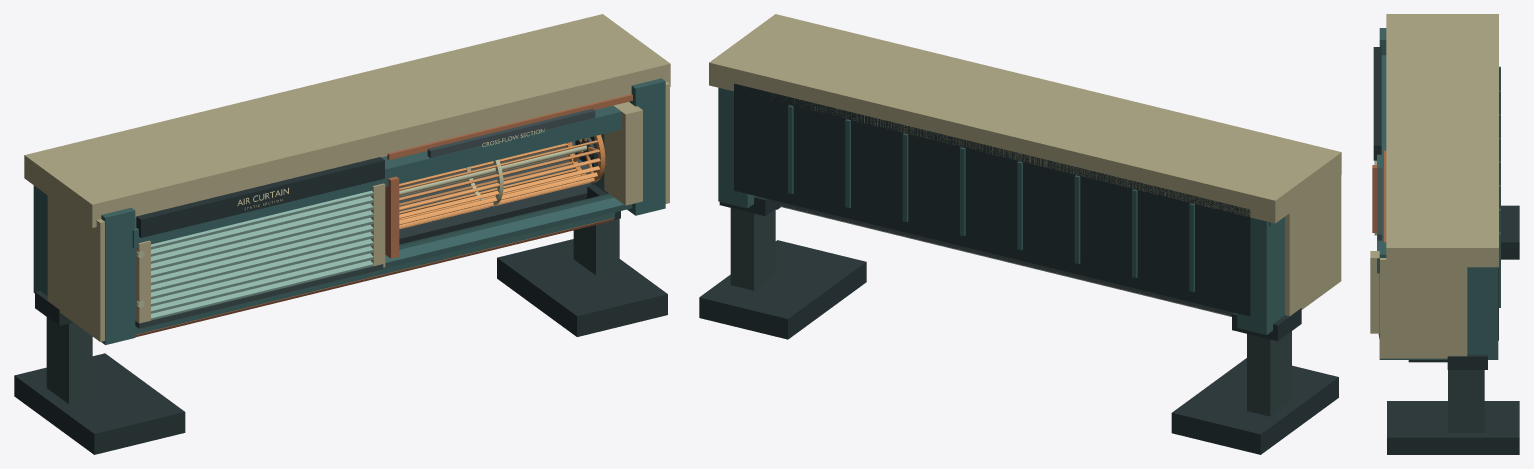
Rendered from mall-entrance-air-curtain-cutaway.glb.
The picture shows the model from 3 angles, left to right: view 1: azimuth 30°, elevation 25°; view 2: azimuth 150°, elevation 25°; view 3: azimuth 270°, elevation 25°; orthographic projection. The views are drawn at different scales.
Parts seen in each view (by area): view 1: Upper cropped doorway header cap, Sample stand low plated wide foot 1, Sample stand low plated wide foot -1, Continuous front outlet lip with no texture stand-in, Long deep green upper outer lip, Actual separate curved blade surfaces RIGHT, Fine brushed side flange -1, Left outer fascia beside visible intake grille, Open channel outer entrance cheek -1, Connected rear curved plenum and rear outlet lip, Open channel outer entrance cheek 1, Cutaway display support leg -1 (+21 smaller); view 2: Small independent common frame at the rear, Upper cropped doorway header cap, Sample stand low plated wide foot 1, Sample stand low plated wide foot -1, Fine brushed side flange -1, Open channel outer entrance cheek -1, Cutaway display support leg 1, Cutaway display support leg -1, Connected rear curved plenum and rear outlet lip, Open channel outer entrance cheek 1, Inset display mounting heel -1, Polished rear nozzle boundary edge; view 3: Upper cropped doorway header cap, Fine brushed side flange 1, Sample stand low plated wide foot 1, Open channel outer entrance cheek 1, Cutaway display support leg 1, Sample stand low plated wide foot -1, Left outer fascia beside visible intake grille, Long deep green upper outer lip, Exposed tall cross-bearing gallery face, Inset display mounting heel 1, Minimal small annotation on header underside, Original amber edge of open cutaway face (+2 smaller).
Part boxes in pixels (x1,y1,x2,y2): Upper cropped doorway header cap: (24,14,670,227); Sample stand low plated wide foot 1: (497,239,667,336); Sample stand low plated wide foot -1: (14,353,185,454); Continuous front outlet lip with no texture stand-in: (135,193,632,334); Long deep green upper outer lip: (132,105,640,248); Actual separate curved blade surfaces RIGHT: (399,140,600,229); Fine brushed side flange -1: (47,196,104,341); Left outer fascia beside visible intake grille: (136,157,384,237); Open channel outer entrance cheek -1: (33,185,135,344); Connected rear curved plenum and rear outlet lip: (399,141,591,244); Open channel outer entrance cheek 1: (593,78,665,215); Cutaway display support leg -1: (46,317,92,404); Small independent common frame at the rear: (734,83,1250,316); Upper cropped doorway header cap: (709,14,1341,223); Sample stand low plated wide foot 1: (699,240,866,339); Sample stand low plated wide foot -1: (1171,358,1338,454); Fine brushed side flange -1: (1285,175,1341,316); Open channel outer entrance cheek -1: (1237,217,1284,334); Cutaway display support leg 1: (730,208,775,290); Cutaway display support leg -1: (1247,331,1291,416); Connected rear curved plenum and rear outlet lip: (780,203,1233,315); Open channel outer entrance cheek 1: (718,87,755,208); Inset display mounting heel -1: (1232,308,1301,341); Polished rear nozzle boundary edge: (780,206,1231,316); Upper cropped doorway header cap: (1386,14,1498,267); Fine brushed side flange 1: (1380,258,1467,358); Sample stand low plated wide foot 1: (1387,401,1519,454); Open channel outer entrance cheek 1: (1379,242,1498,359); Cutaway display support leg 1: (1448,370,1484,432); Sample stand low plated wide foot -1: (1501,205,1519,259); Left outer fascia beside visible intake grille: (1373,47,1381,160); Long deep green upper outer lip: (1377,55,1386,273); Exposed tall cross-bearing gallery face: (1370,251,1379,333); Inset display mounting heel 1: (1447,354,1487,369); Minimal small annotation on header underside: (1377,168,1382,240); Original amber edge of open cutaway face: (1372,165,1376,232).
Bounding box in the file's own units: 1.56 × 0.647 × 0.4205.
